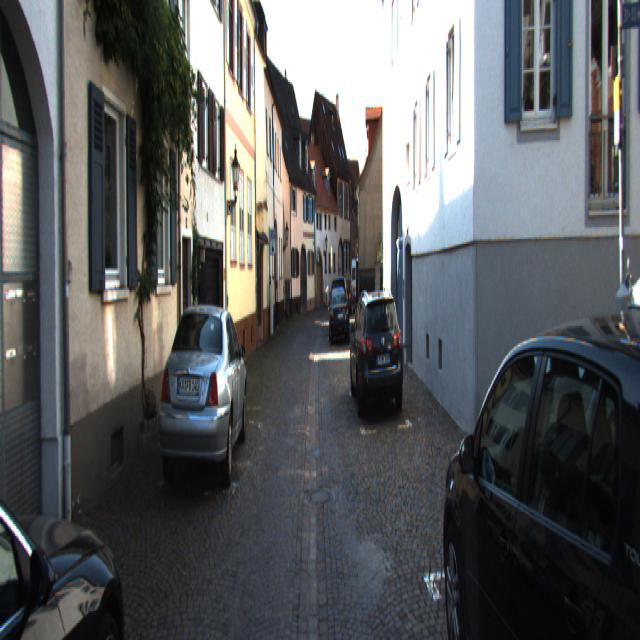Car: (433, 263, 640, 638), (0, 372, 132, 638), (158, 298, 248, 497), (348, 286, 404, 422), (329, 289, 349, 344), (350, 257, 371, 306)
